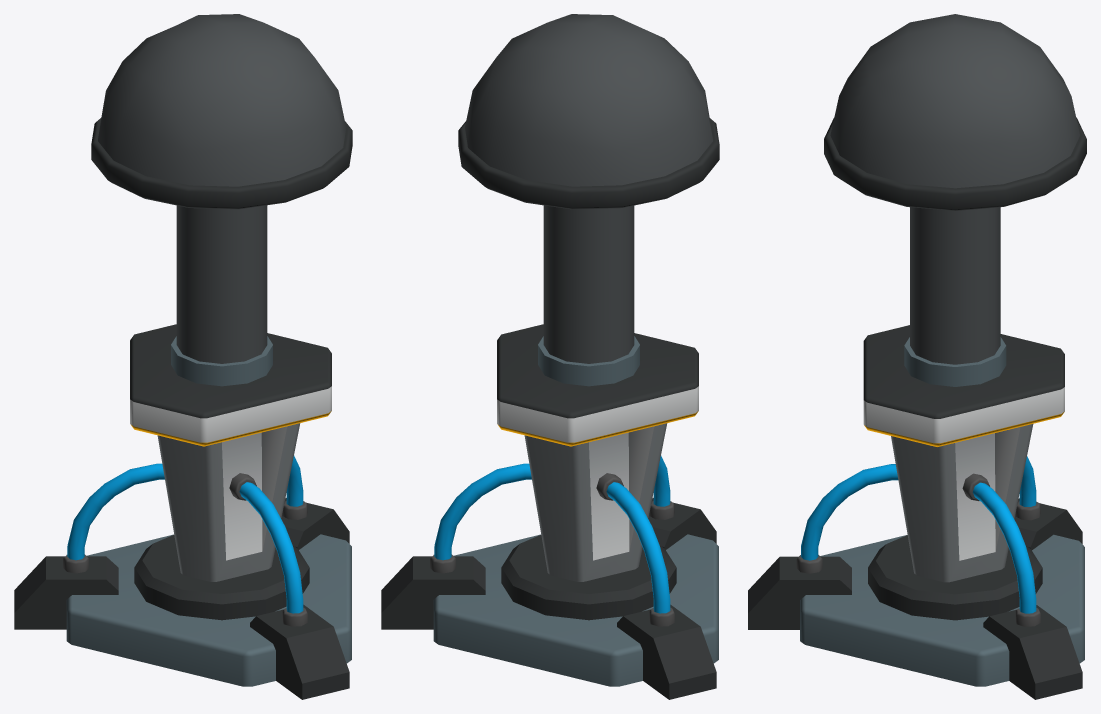
The model's file is Turret_014.fbx.
The picture shows the model from 3 angles, left to right: view 1: azimuth 30°, elevation 25°; view 2: azimuth 150°, elevation 25°; view 3: azimuth 270°, elevation 25°; orthographic projection.
Visible parts, largest first — view 1: Turret_014; view 2: Turret_014; view 3: Turret_014.
Part boxes in pixels (x1,y1,x2,y2): Turret_014: (14,14,352,699); Turret_014: (381,14,719,699); Turret_014: (748,14,1086,699).
Bounding box in the file's own units: 107 × 94.1 × 182.
